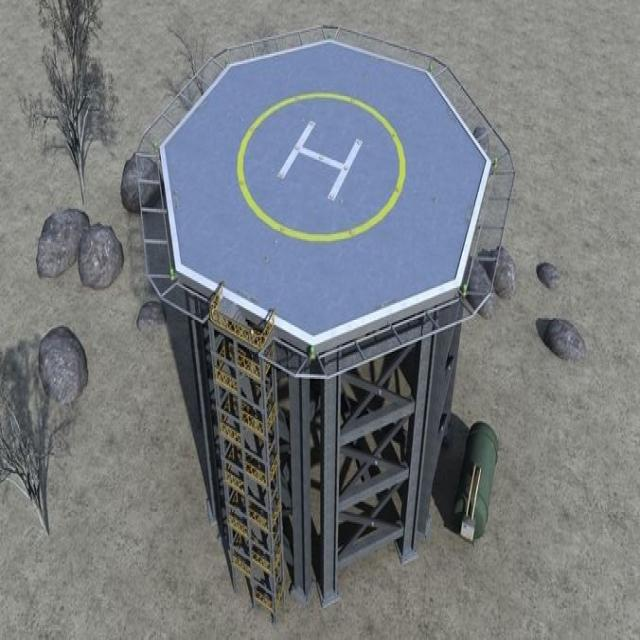helipad: (232, 84, 406, 246)
